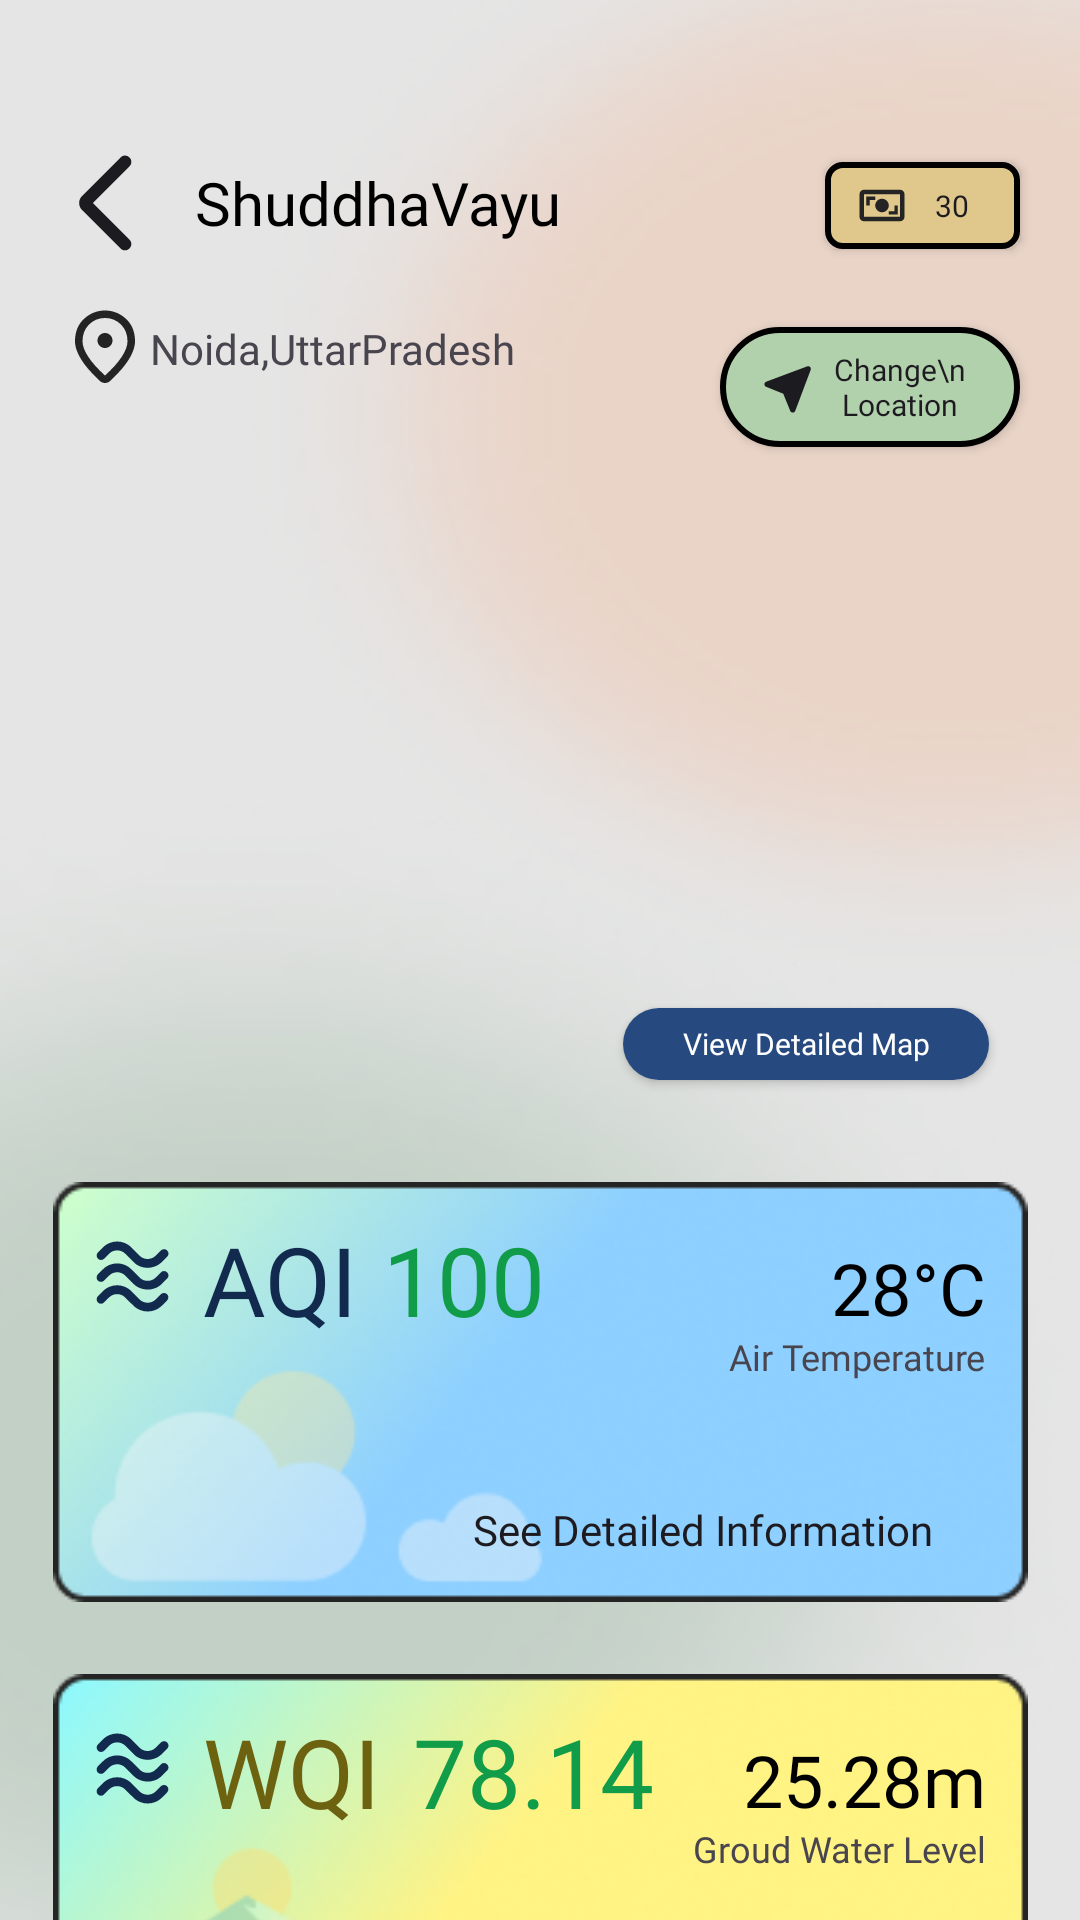

Icons on this 1080 x 1920 Android screen, each with its box as {"left": x1, "top": y1, "right": x2, "bottom": y2}:
airwave: {"left": 96, "top": 1241, "right": 169, "bottom": 1312}, {"left": 80, "top": 1716, "right": 185, "bottom": 1821}
arrow back: {"left": 79, "top": 155, "right": 132, "bottom": 251}
location on: {"left": 75, "top": 310, "right": 135, "bottom": 383}
near me: {"left": 764, "top": 366, "right": 811, "bottom": 413}
universal currency: {"left": 859, "top": 189, "right": 905, "bottom": 222}
